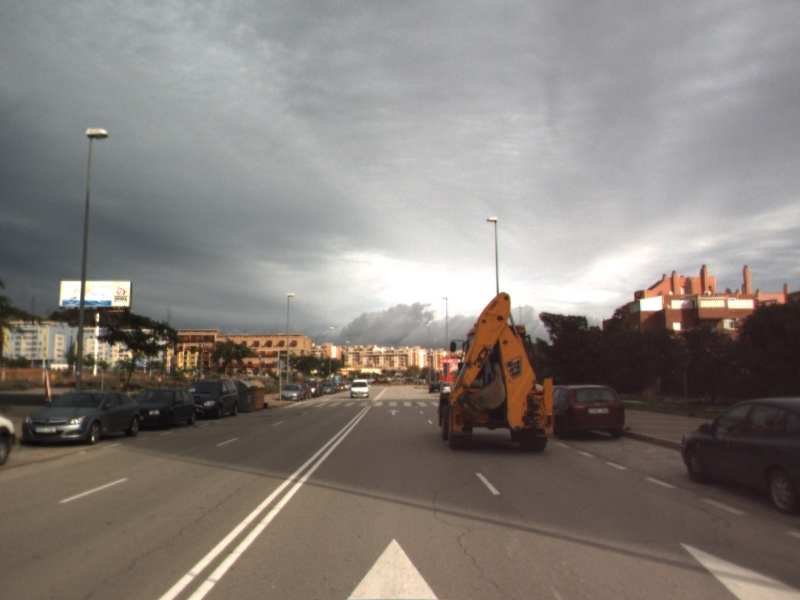STRAIGHT: (386, 407, 401, 417)
